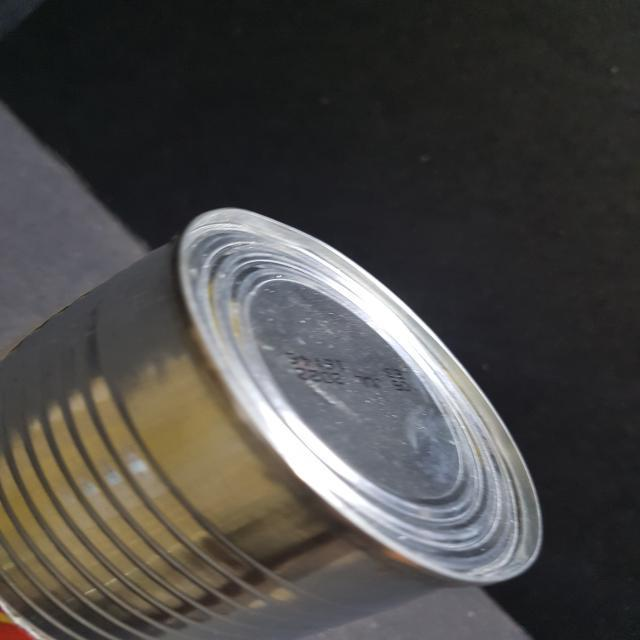metal-can: (0, 201, 548, 640)
